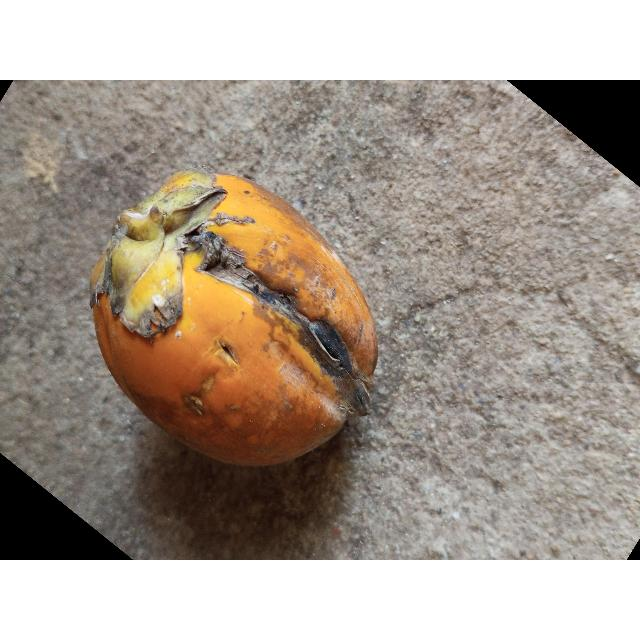damaged: (88, 172, 382, 470)
